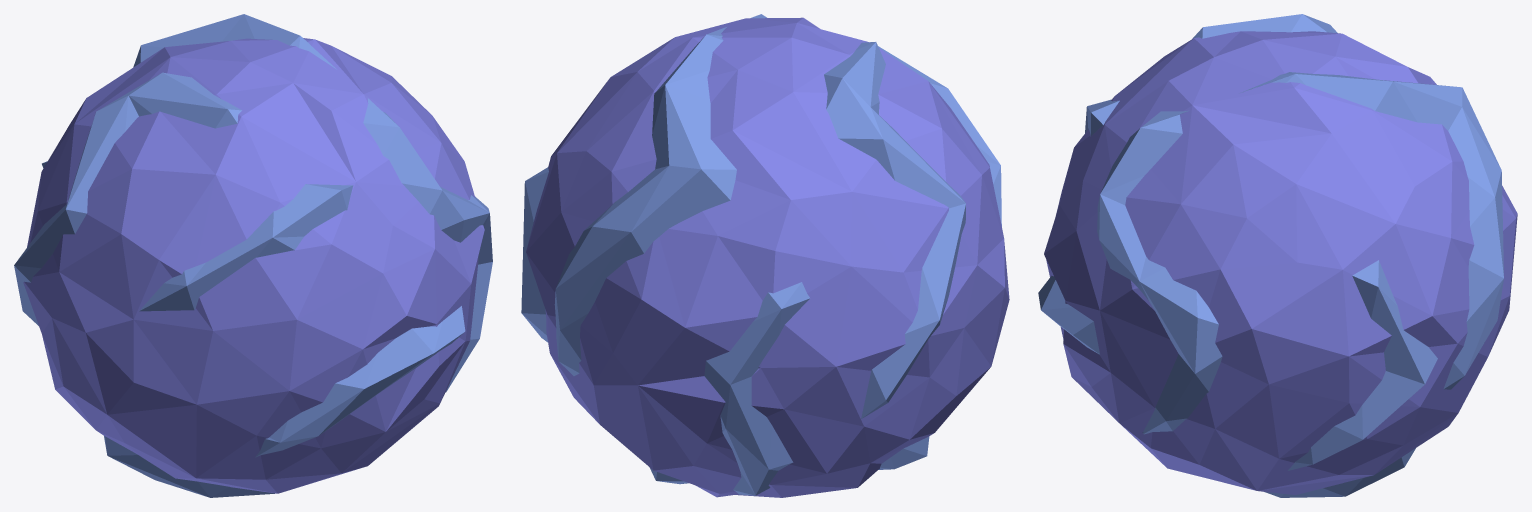
Rendered from icy_planet5.fbx.
3 views of the same model, side by side, from view 1: azimuth 30°, elevation 25°; view 2: azimuth 150°, elevation 25°; view 3: azimuth 270°, elevation 25° (orthographic). The views are drawn at different scales.
Parts seen in each view (by area): view 1: icy_planet5; view 2: icy_planet5; view 3: icy_planet5.
Boxes of the visible parts, x1,y1,x2,y2 form: icy_planet5: (14, 14, 492, 497); icy_planet5: (521, 14, 1009, 497); icy_planet5: (1038, 14, 1517, 497).
Bounding box in the file's own units: 200 × 203 × 201.
